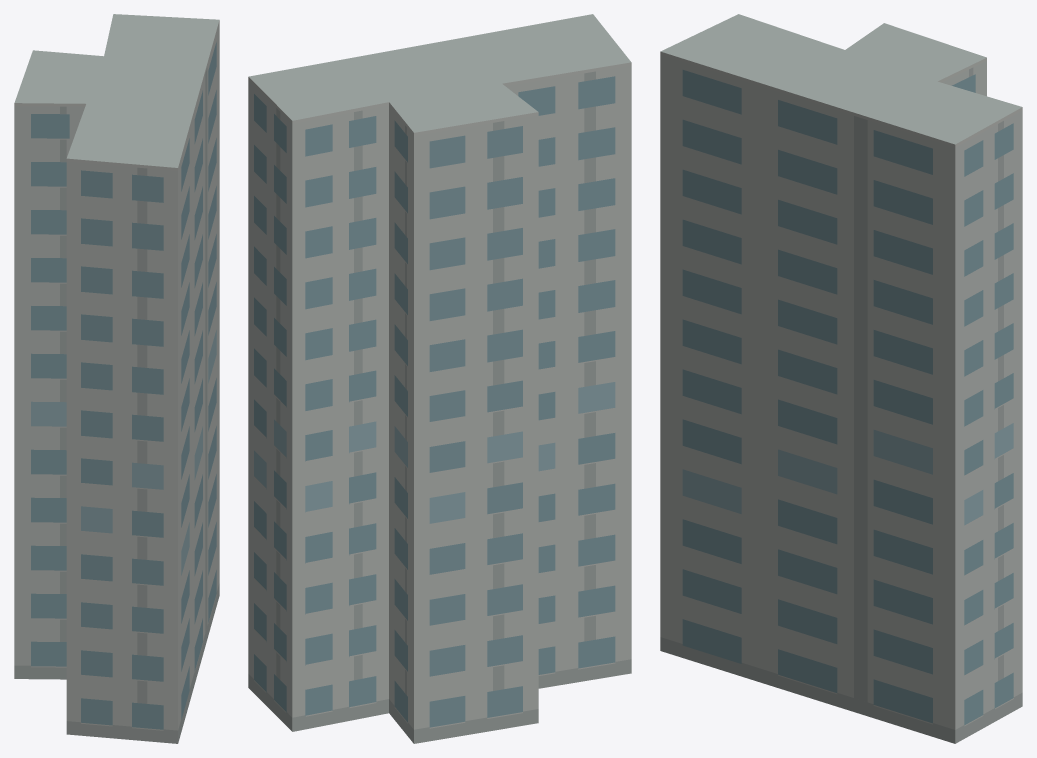
The model's file is residential-2bff1556-42ac-4b1d-bf2b-f67034ecbda4.glb.
3 views of the same model, side by side, from view 1: azimuth 30°, elevation 25°; view 2: azimuth 150°, elevation 25°; view 3: azimuth 270°, elevation 25° (orthographic). The views are drawn at different scales.
Visible parts, largest first — view 1: residential-2bff1556-42ac-4b1d-bf2b-f67034ecbda4.tmp; view 2: residential-2bff1556-42ac-4b1d-bf2b-f67034ecbda4.tmp; view 3: residential-2bff1556-42ac-4b1d-bf2b-f67034ecbda4.tmp.
Part boxes in pixels (x1=…): residential-2bff1556-42ac-4b1d-bf2b-f67034ecbda4.tmp: x1=14, y1=14, x2=219, y2=743; residential-2bff1556-42ac-4b1d-bf2b-f67034ecbda4.tmp: x1=248, y1=14, x2=631, y2=743; residential-2bff1556-42ac-4b1d-bf2b-f67034ecbda4.tmp: x1=660, y1=14, x2=1022, y2=743.
Bounding box in the file's own units: 21.49 × 46 × 25.2.
